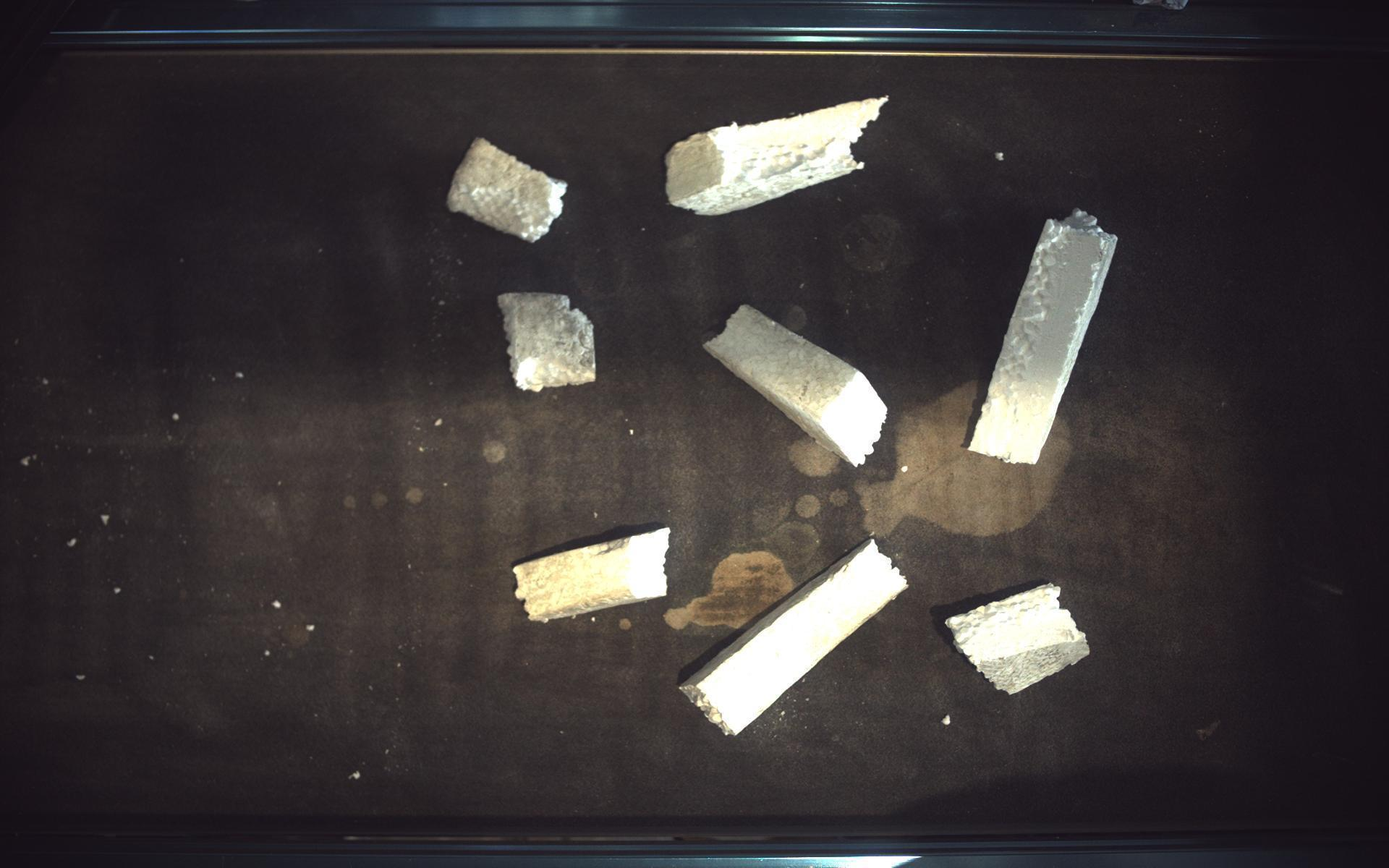foam: (681, 538, 909, 736), (971, 208, 1120, 464), (705, 305, 889, 466), (666, 98, 889, 214), (948, 584, 1092, 695), (514, 527, 671, 622), (447, 137, 568, 242), (498, 292, 595, 391)
